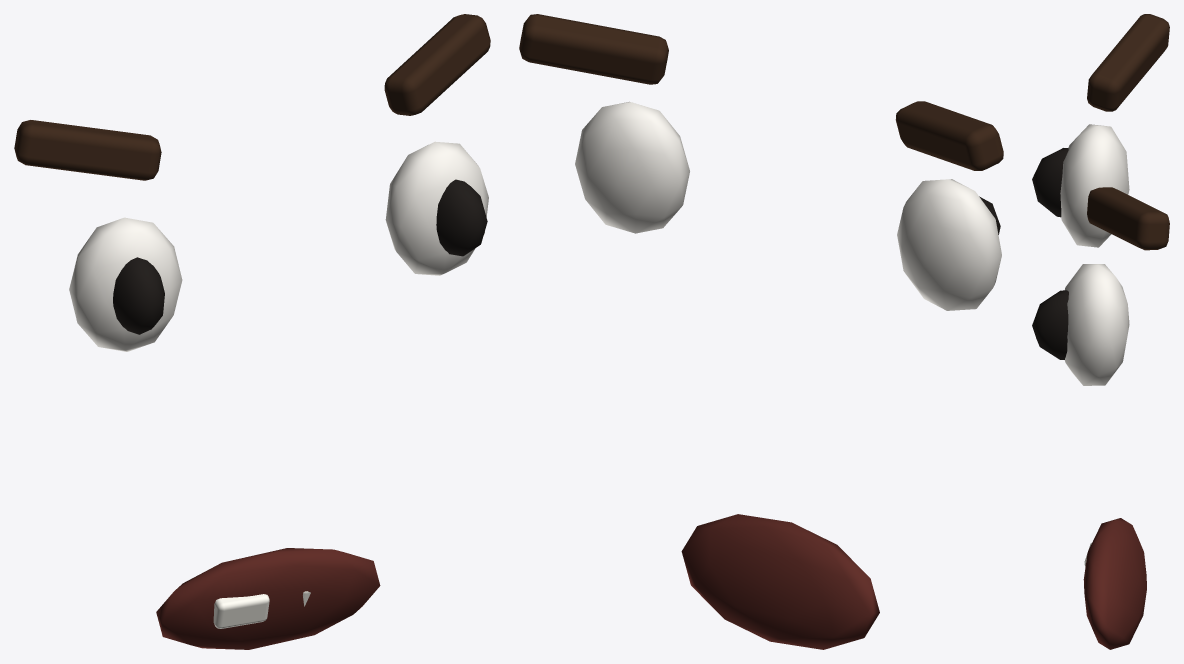
The model's file is 14-gap-tooth.glb.
The picture shows the model from 3 angles, left to right: view 1: azimuth 30°, elevation 25°; view 2: azimuth 150°, elevation 25°; view 3: azimuth 270°, elevation 25°; orthographic projection. The views are drawn at different scales.
Visible parts, largest first — view 1: Face14_MouthOpen, Face14_EyeWhite-1, Face14_EyeWhite1, Face14_Brow-1, Face14_Brow1, Face14_Pupil-1, Face14_Pupil1, Face14_Tooth-1; view 2: Face14_MouthOpen, Face14_EyeWhite1, Face14_EyeWhite-1, Face14_Brow1, Face14_Brow-1; view 3: Face14_MouthOpen, Face14_EyeWhite1, Face14_EyeWhite-1, Face14_Brow-1, Face14_Brow1, Face14_Pupil1, Face14_Pupil-1.
Boxes of the visible parts, bbox=[...] form: Face14_MouthOpen: bbox=[156, 548, 380, 649]; Face14_EyeWhite-1: bbox=[69, 217, 182, 351]; Face14_EyeWhite1: bbox=[385, 141, 488, 275]; Face14_Brow-1: bbox=[14, 120, 161, 180]; Face14_Brow1: bbox=[384, 14, 490, 115]; Face14_Pupil-1: bbox=[113, 257, 164, 334]; Face14_Pupil1: bbox=[436, 179, 487, 256]; Face14_Tooth-1: bbox=[213, 594, 269, 628]; Face14_MouthOpen: bbox=[681, 514, 879, 649]; Face14_EyeWhite1: bbox=[575, 101, 689, 233]; Face14_EyeWhite-1: bbox=[897, 179, 1001, 310]; Face14_Brow1: bbox=[519, 14, 668, 84]; Face14_Brow-1: bbox=[895, 101, 1003, 170]; Face14_MouthOpen: bbox=[1083, 518, 1146, 649]; Face14_EyeWhite1: bbox=[1064, 264, 1129, 385]; Face14_EyeWhite-1: bbox=[1060, 124, 1129, 247]; Face14_Brow-1: bbox=[1087, 14, 1169, 111]; Face14_Brow1: bbox=[1087, 187, 1169, 250]; Face14_Pupil1: bbox=[1032, 290, 1068, 359]; Face14_Pupil-1: bbox=[1032, 148, 1068, 217].
Size of the model in its own units: 0.277 by 0.3195 by 0.0769.
